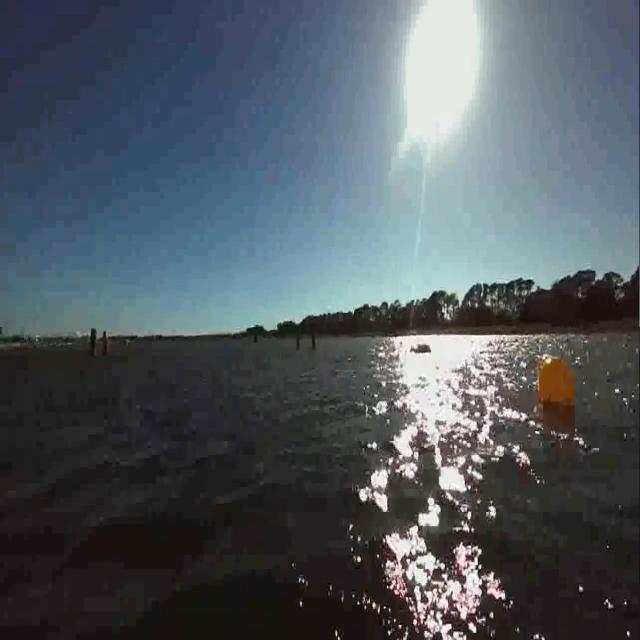green-column-buoy: (89, 324, 98, 358)
red-column-buoy: (100, 332, 110, 359)
yellow-buoy: (538, 352, 578, 414)
